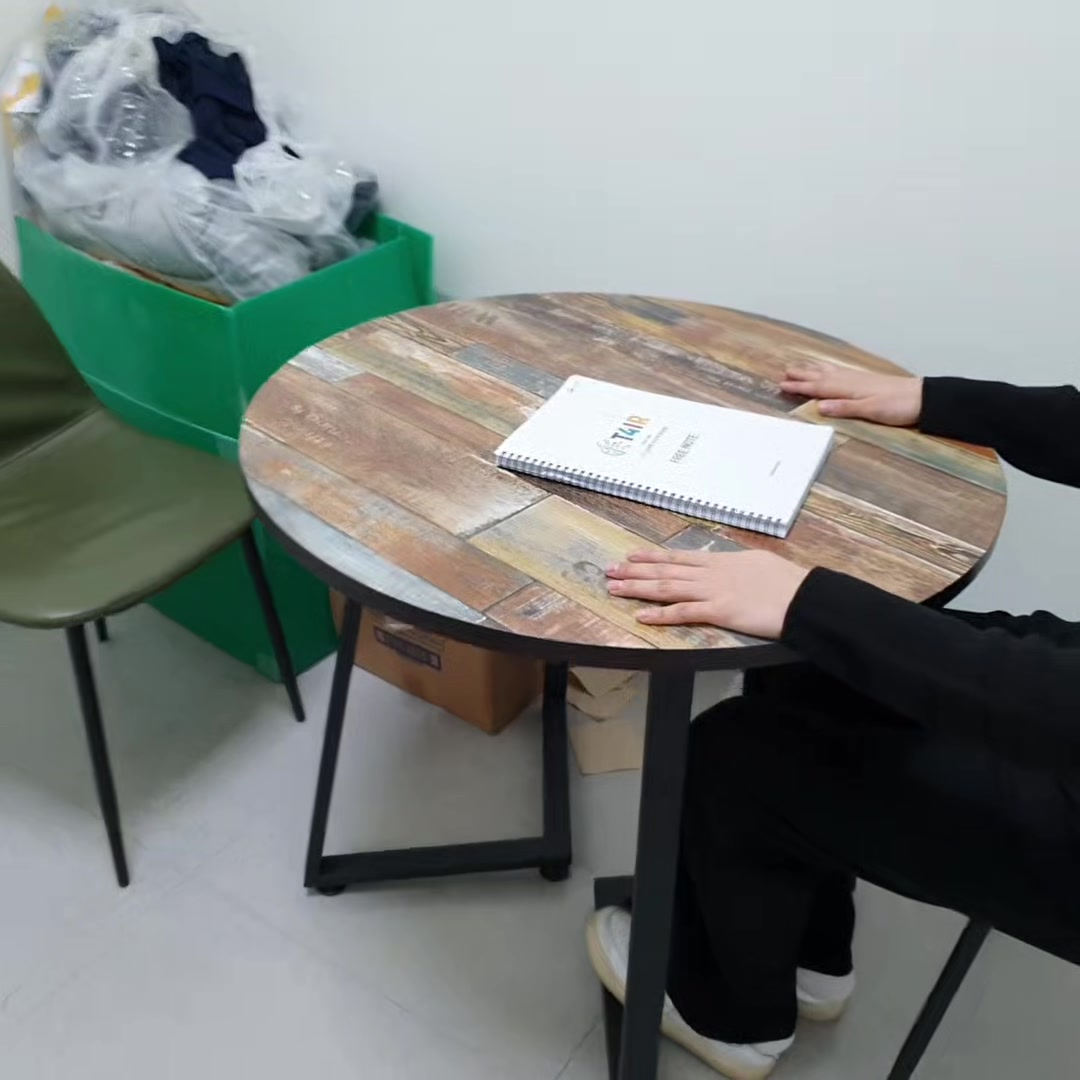book: (482, 370, 848, 549)
